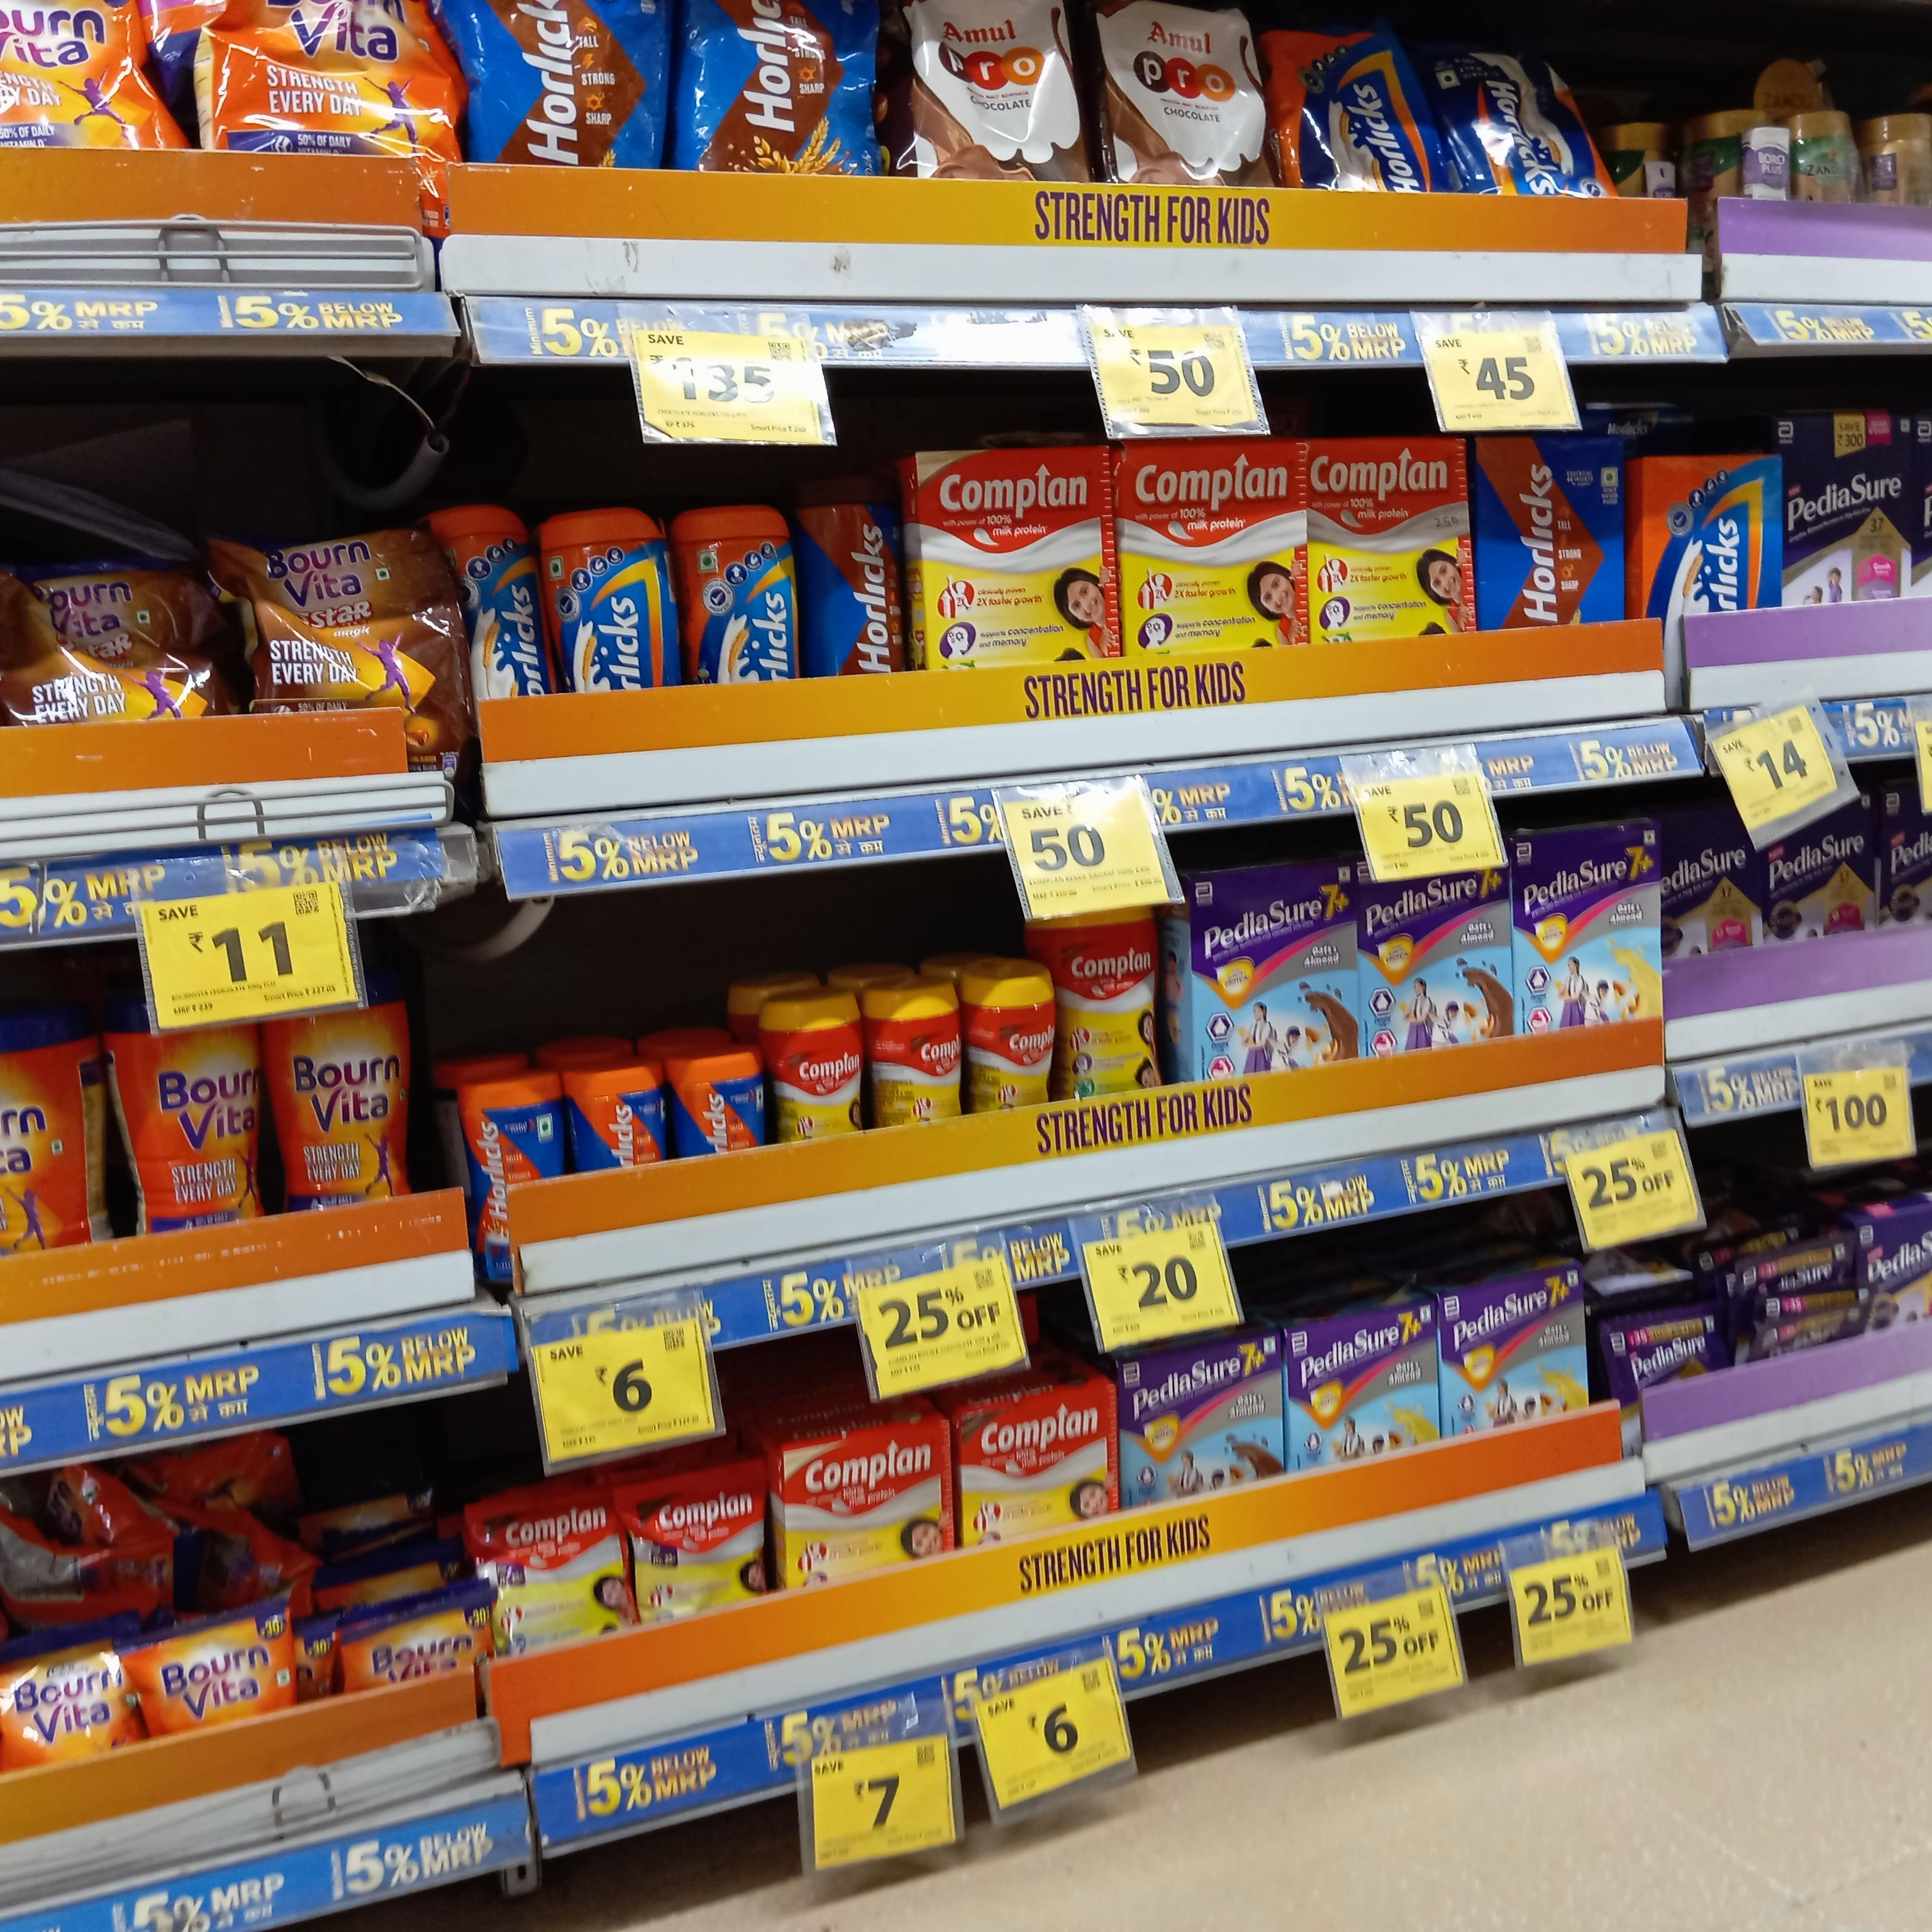BOURN_VITA_500_G_JAR: (108, 996, 264, 1235), (281, 991, 416, 1208)
BOURN_VITA_FIVE_STAR_MAGIC_500_G_POUCH: (249, 518, 453, 731), (0, 554, 212, 734)
COMPLAN_CHOCOLATE_200_GMS_JAR: (786, 1000, 865, 1150), (998, 962, 1062, 1129)
COMPLAN_CHOCOLATE_200_GMS_PACK: (782, 1424, 947, 1582), (964, 1401, 1108, 1552)
COMPLAN_CHOCOLATE_500_GMS_JAR: (1067, 906, 1175, 1104)
COMPLAN_CHOCOLATE_500_GMS_PACK: (1479, 439, 1617, 626)
COMPLAN_KESAR_BADAM_500_GMS_PACK: (920, 448, 1118, 663)
HORLICK_CHOCOLATE_200_G_JAR: (812, 478, 909, 672)
HORLICK_CLASSIC_MALT_200_G_JAR: (683, 506, 803, 699), (552, 506, 674, 695)
HORLICK_CLASSIC_MALT_500_G_PACK: (1635, 449, 1783, 612)
HORLICK_CLASSIC_MALT_750_G_POUCH: (1258, 0, 1410, 191), (1435, 32, 1587, 205)
PEDIASURE_7_PLUS_CHOCOLATE_400_G_PACK: (1196, 863, 1361, 1070), (1122, 1325, 1283, 1504), (1368, 862, 1509, 1044)
PEDIASURE_VANILLA_500_G_PACK: (1789, 405, 1911, 609)
